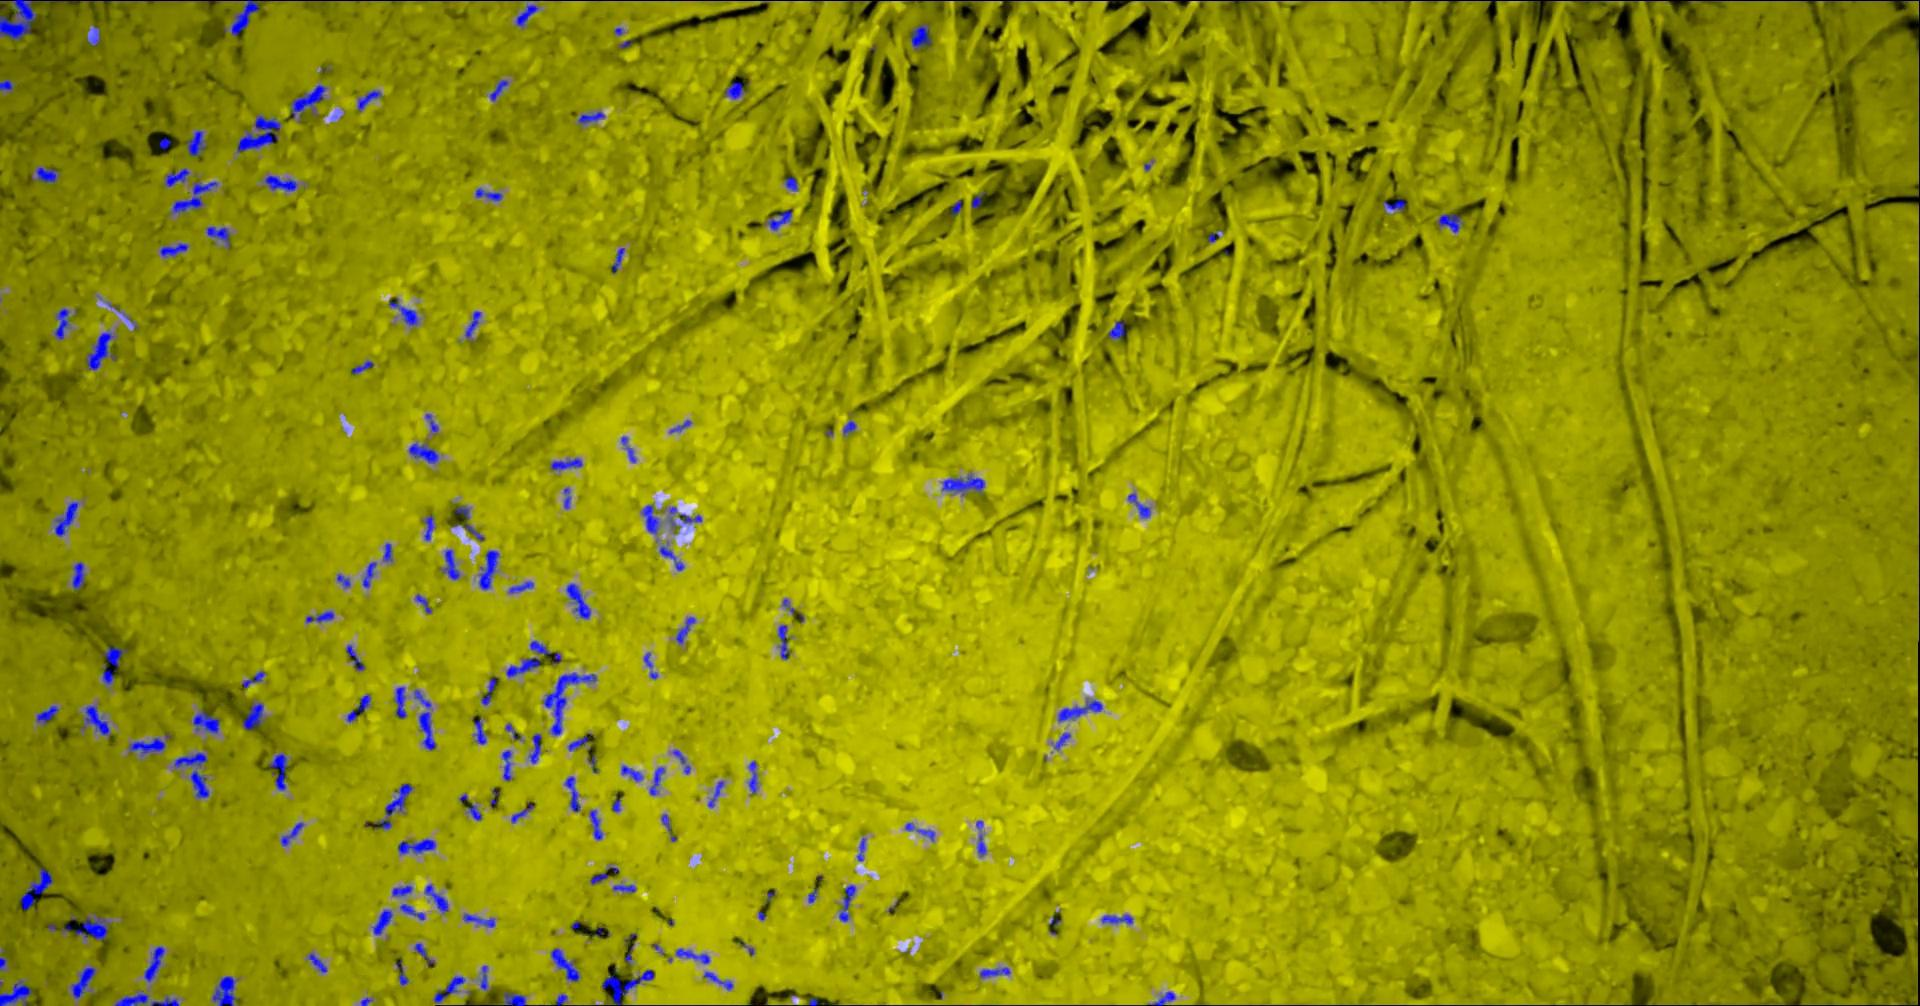ant: (1, 0, 98, 39), (545, 672, 598, 735), (603, 969, 657, 1005), (375, 782, 414, 828), (237, 116, 282, 152), (175, 751, 210, 796), (171, 180, 218, 213), (22, 868, 55, 909), (232, 0, 270, 36), (415, 688, 437, 749), (292, 84, 328, 118), (88, 330, 117, 370), (457, 506, 486, 541), (1059, 699, 1103, 721), (116, 989, 180, 1005), (552, 948, 582, 981), (943, 474, 985, 495), (104, 647, 128, 683), (77, 913, 110, 940), (568, 583, 592, 619), (434, 976, 466, 1002), (390, 298, 420, 325), (56, 500, 79, 536), (480, 550, 500, 589), (145, 945, 166, 981), (531, 640, 563, 664), (72, 967, 97, 998), (1, 981, 33, 1005), (213, 976, 239, 1005), (86, 705, 110, 735), (425, 884, 450, 913), (507, 657, 542, 676), (130, 737, 168, 754), (348, 694, 372, 721), (270, 753, 288, 790), (194, 709, 221, 733), (243, 702, 265, 730), (841, 884, 857, 921), (410, 443, 439, 464), (662, 546, 686, 570), (910, 24, 933, 50), (399, 838, 437, 854), (705, 970, 734, 989), (1129, 493, 1152, 517), (677, 616, 697, 643), (905, 822, 936, 840), (643, 506, 662, 533), (517, 4, 540, 27), (566, 776, 582, 810), (282, 822, 305, 845), (677, 948, 711, 963), (189, 130, 208, 156), (265, 175, 298, 191), (444, 549, 461, 579), (783, 598, 805, 621), (359, 90, 383, 111), (56, 307, 71, 339), (347, 644, 366, 669), (770, 210, 792, 230), (208, 226, 231, 246), (166, 166, 190, 185), (512, 803, 536, 822), (375, 909, 394, 934), (778, 624, 791, 659), (465, 913, 497, 927), (466, 310, 483, 337), (1439, 213, 1462, 232), (243, 669, 265, 688), (674, 749, 692, 774), (483, 677, 498, 705), (530, 733, 543, 763), (590, 809, 604, 840), (33, 166, 58, 183), (709, 781, 725, 807), (491, 79, 510, 100), (38, 705, 60, 724), (161, 243, 190, 257), (622, 436, 637, 462), (552, 457, 584, 470), (401, 903, 425, 920), (72, 561, 86, 589), (651, 767, 665, 795), (1149, 991, 1177, 1005), (417, 942, 436, 963), (645, 652, 659, 678), (1109, 320, 1128, 339), (396, 686, 408, 718), (364, 561, 378, 587), (307, 610, 335, 622), (475, 716, 488, 744), (579, 111, 606, 123), (476, 187, 503, 199), (613, 246, 626, 273), (310, 953, 328, 972), (569, 735, 593, 749), (726, 81, 747, 98), (417, 593, 433, 614), (622, 765, 644, 780), (397, 959, 410, 984), (503, 749, 513, 780), (982, 967, 1012, 977), (353, 359, 375, 373), (505, 991, 527, 1005), (1384, 198, 1407, 211), (670, 419, 693, 432), (750, 761, 759, 793), (510, 580, 535, 592), (1057, 732, 1072, 749), (1103, 915, 1134, 923), (88, 25, 102, 44), (425, 514, 436, 540), (973, 191, 987, 208), (681, 513, 703, 523), (469, 804, 483, 821), (427, 413, 439, 431), (392, 885, 414, 895), (858, 837, 867, 861), (844, 420, 858, 434), (383, 542, 394, 561), (592, 873, 610, 883), (1, 79, 15, 91), (786, 177, 799, 191), (615, 884, 637, 892), (979, 835, 987, 856), (338, 574, 350, 587), (952, 199, 963, 215), (483, 965, 489, 989), (160, 136, 171, 149), (565, 486, 571, 508)
